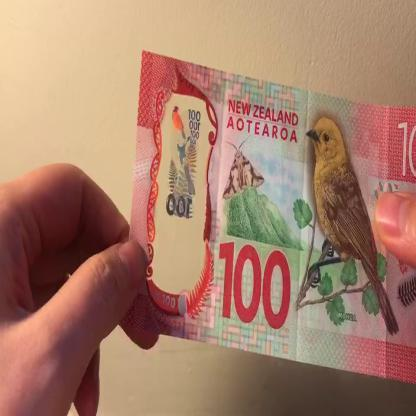100B: (165, 100, 201, 268)
